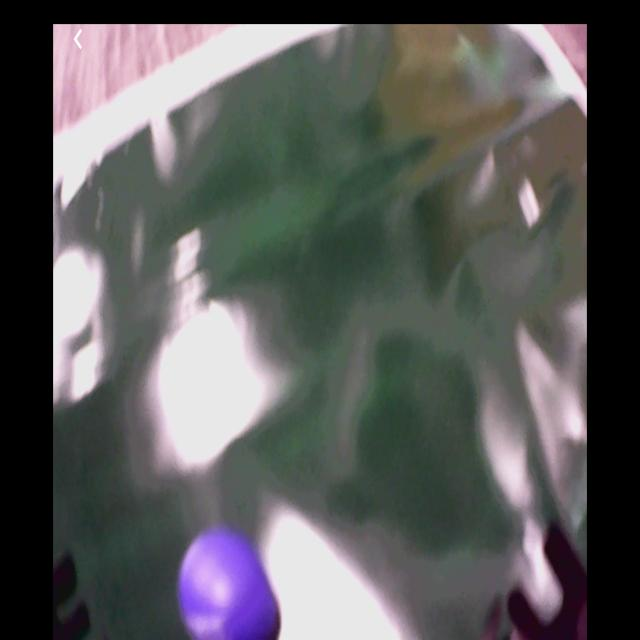ball: (178, 536, 282, 640)
